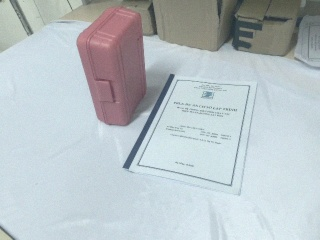box: (75, 6, 148, 127), (146, 1, 250, 52), (232, 1, 303, 56)
